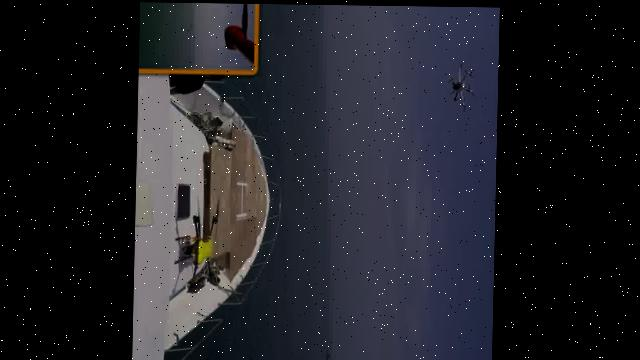drone: (169, 193, 229, 296), (443, 55, 484, 116)
